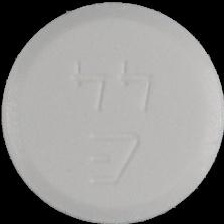42549-597: (0, 0, 224, 224)
